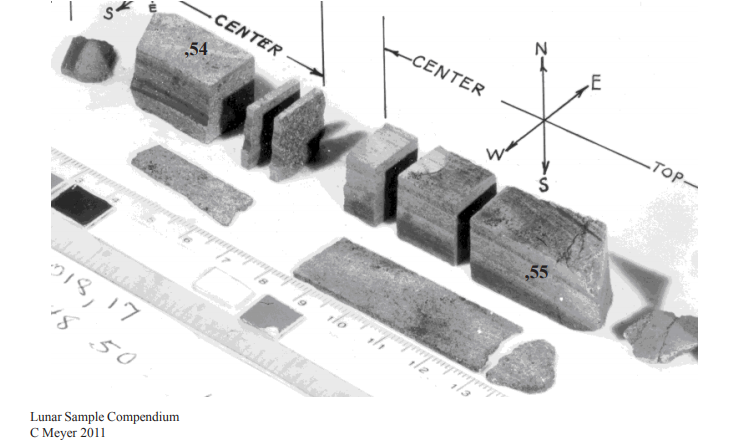Basalt: (354, 118, 622, 349), (129, 0, 236, 146), (249, 77, 322, 172)
